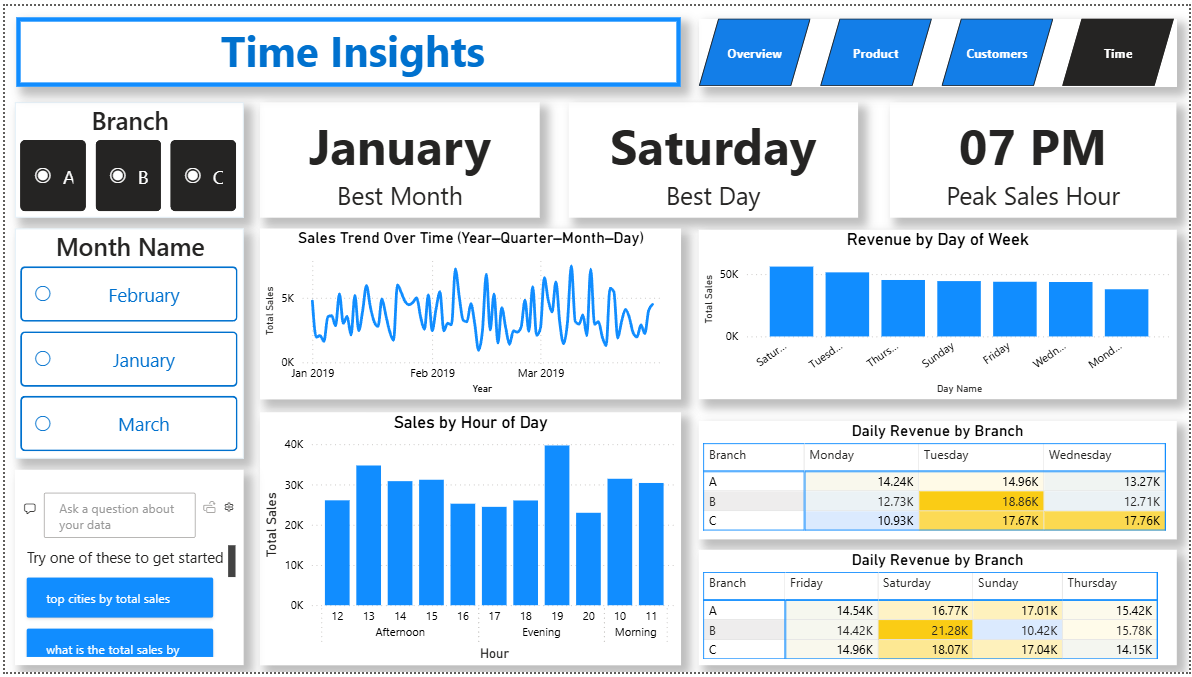

What the dashboard file says about the page in this screenshot:
{"tool":"powerbi","page":{"name":"Time","canvas":[1280,720],"ordinal":3},"visuals":[{"type":"card","fields":{"Values":["WalmartSalesData.Best Month"]},"box":[275,104.2,302.8,125],"z":0},{"type":"card","fields":{"Values":["WalmartSalesData.Best Day"]},"box":[609.7,104.2,312.5,125],"z":1000},{"type":"card","fields":{"Values":["WalmartSalesData.Best Hour"]},"box":[956.9,104.2,309.7,125],"z":2000},{"type":"advancedSlicerVisual","fields":{"Values":["WalmartSalesData csv.Branch"]},"box":[11.1,104.2,247.2,125],"z":3000},{"type":"advancedSlicerVisual","fields":{"Values":["WalmartSalesData.Month Name"]},"box":[11.1,240.3,247.2,248.6],"z":4000},{"type":"lineChart","title":"Sales Trend Over Time (Year–Quarter–Month–Day)","fields":{"Y":["WalmartSalesData.Total Sales"],"Category":["WalmartSalesData.Date.Variation.Date Hierarchy.Year","WalmartSalesData.Date.Variation.Date Hierarchy.Quarter","WalmartSalesData.Date.Variation.Date Hierarchy.Month","WalmartSalesData.Date.Variation.Date Hierarchy.Day"]},"box":[275,240.3,455.6,184.7],"z":5000},{"type":"clusteredColumnChart","title":"Revenue by Day of Week","fields":{"Category":["WalmartSalesData.Day Name"],"Y":["WalmartSalesData.Total Sales"]},"box":[750,241.7,516.7,183.3],"z":6000},{"type":"clusteredColumnChart","title":"Sales by Hour of Day","fields":{"Y":["WalmartSalesData.Total Sales"],"Category":["WalmartSalesData.Time of Day","WalmartSalesData.Hour"]},"box":[275,438.9,455.6,273.6],"z":7000},{"type":"pivotTable","title":"Daily Revenue by Branch","fields":{"Rows":["WalmartSalesData.Branch"],"Columns":["WalmartSalesData.Day Name"],"Values":["WalmartSalesData.Total Sales"]},"box":[750,448.6,516.7,127.8],"z":8000},{"type":"pivotTable","title":"Daily Revenue by Branch","fields":{"Rows":["WalmartSalesData.Branch"],"Columns":["WalmartSalesData.Day Name"],"Values":["WalmartSalesData.Total Sales"]},"box":[750,587.5,516.7,125],"z":9000},{"type":"qnaVisual","box":[11.1,501.4,247.2,211.1],"z":10000},{"type":"pageNavigator","box":[750,13.3,516.7,73.3],"z":11000},{"type":"textbox","title":"Time Insights","box":[11.7,11.7,718.3,75],"z":12000}]}

Visuals, with their boxes in screenshot pixels (x1, y1, x2, y2), scaled from the page's 1280x720 canvas onto the 1192x677 screenshot:
card - WalmartSalesData.Best Month: pyautogui.locateOnScreen(256, 98, 538, 216)
card - WalmartSalesData.Best Day: pyautogui.locateOnScreen(568, 98, 859, 216)
card - WalmartSalesData.Best Hour: pyautogui.locateOnScreen(891, 98, 1180, 216)
advancedSlicerVisual - WalmartSalesData csv.Branch: pyautogui.locateOnScreen(10, 98, 241, 216)
advancedSlicerVisual - WalmartSalesData.Month Name: pyautogui.locateOnScreen(10, 226, 241, 460)
"Sales Trend Over Time (Year–Quarter–Month–Day)" lineChart: pyautogui.locateOnScreen(256, 226, 680, 400)
"Revenue by Day of Week" clusteredColumnChart: pyautogui.locateOnScreen(698, 227, 1180, 400)
"Sales by Hour of Day" clusteredColumnChart: pyautogui.locateOnScreen(256, 413, 680, 670)
"Daily Revenue by Branch" pivotTable: pyautogui.locateOnScreen(698, 422, 1180, 542)
"Daily Revenue by Branch" pivotTable: pyautogui.locateOnScreen(698, 552, 1180, 670)
qnaVisual: pyautogui.locateOnScreen(10, 471, 241, 670)
pageNavigator: pyautogui.locateOnScreen(698, 13, 1180, 81)
"Time Insights" textbox: pyautogui.locateOnScreen(11, 11, 680, 82)
